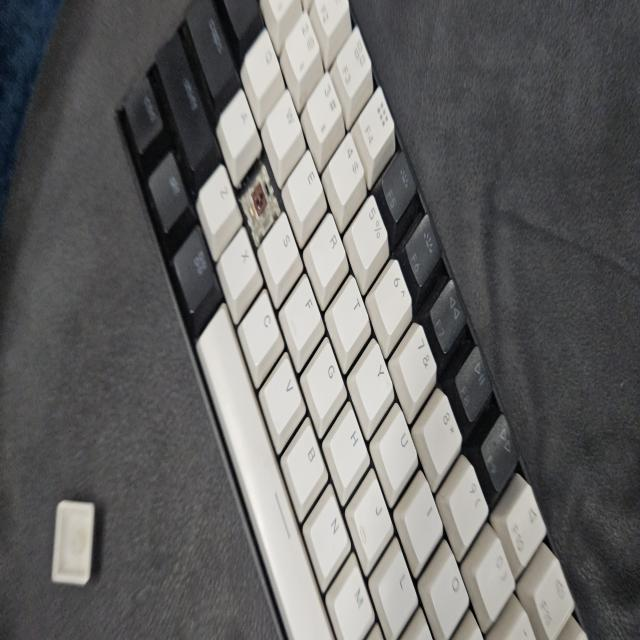C: (248, 174, 268, 228), (247, 182, 268, 233)
